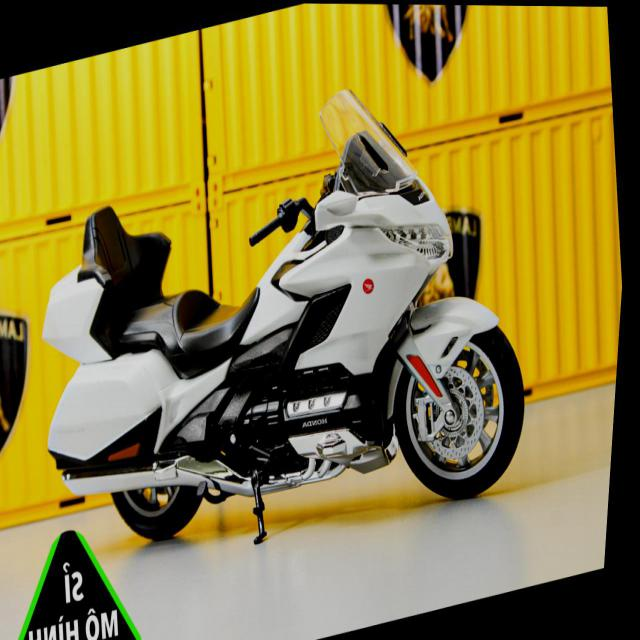Gold Wing: (14, 40, 558, 603)
